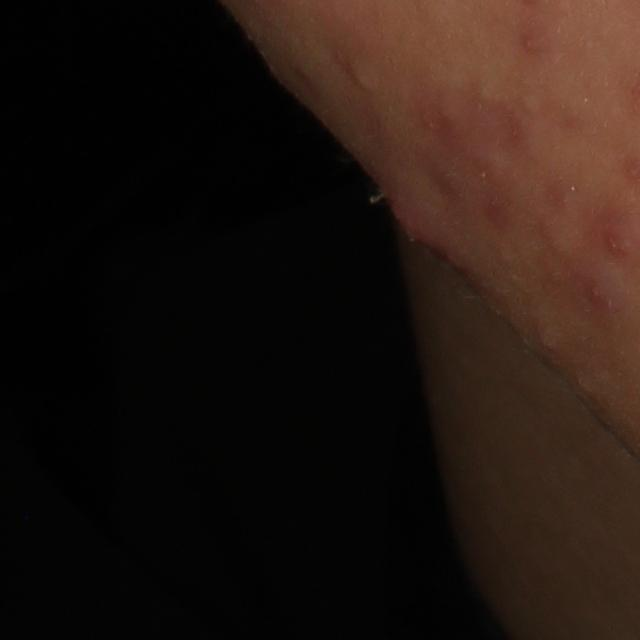comedo: (340, 53, 390, 102), (521, 90, 549, 124)
papule: (388, 190, 440, 256), (584, 275, 618, 309)
